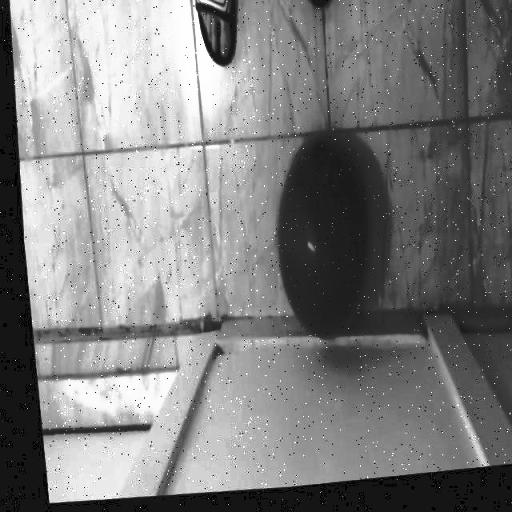balloon: (256, 128, 384, 361)
